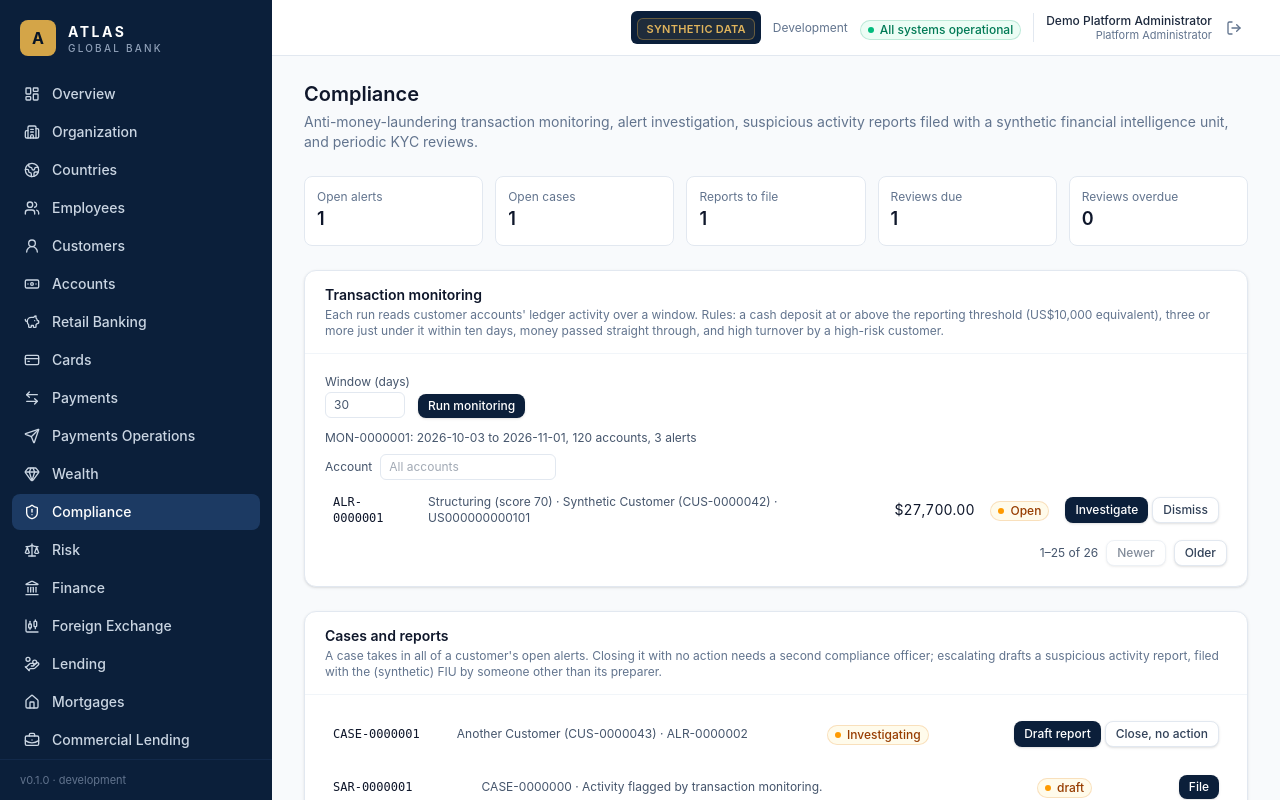
Test: Compliance page › pages back to older alerts beyond the newest 25
The image size is (1280, 800).
Click the button "Older" at (1200,553), box 1174,540 -> 1227,566
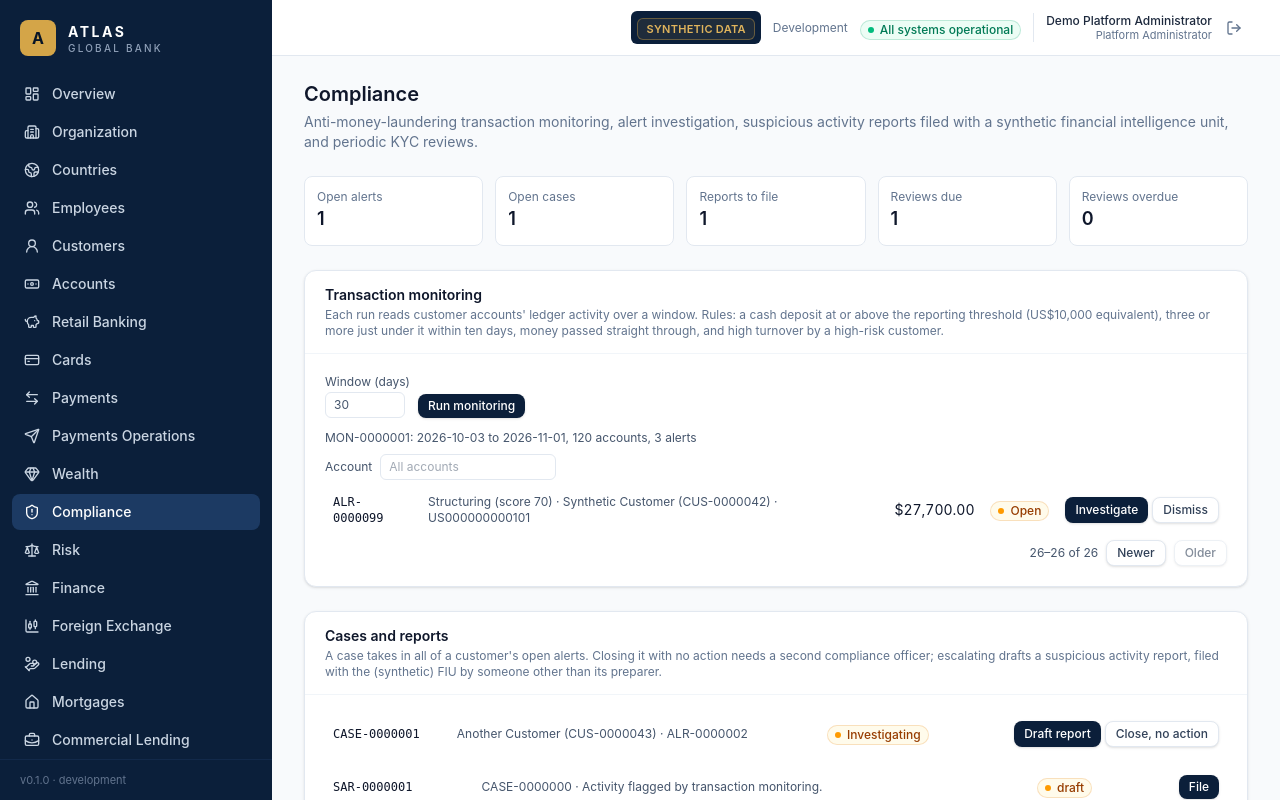
Now the text "ALR-0000099" is shown, box 325,488 -> 420,532
